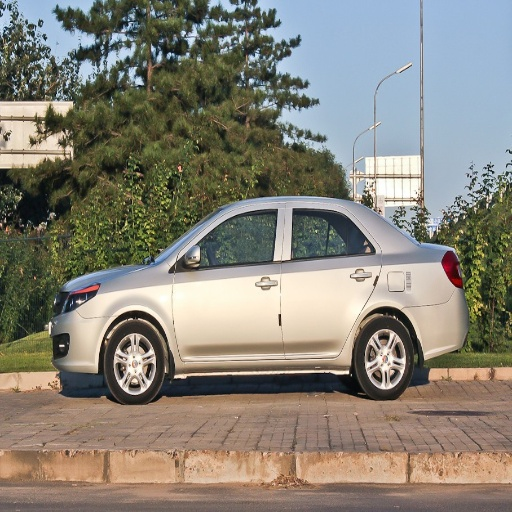back_left_door: (285, 205, 381, 358)
front_left_door: (172, 206, 285, 361)
